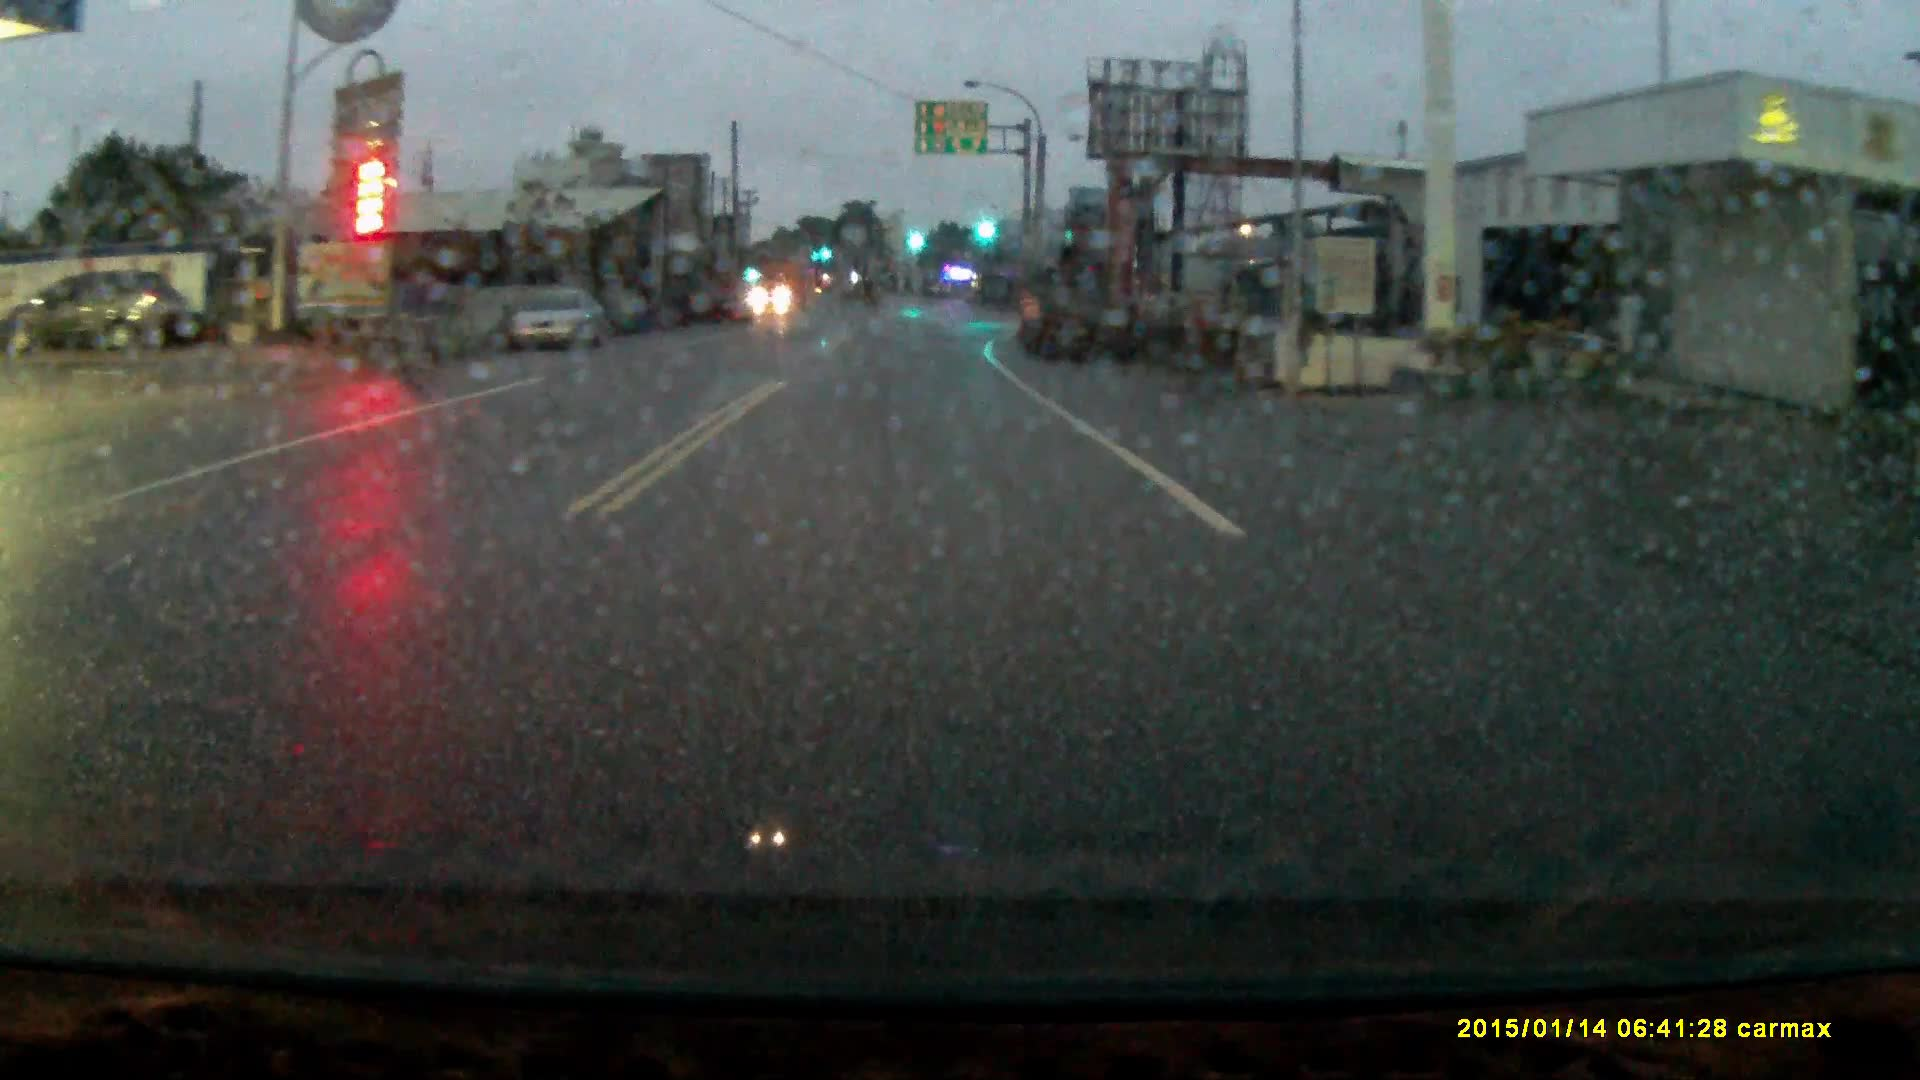rider: (355, 249, 461, 408)
vehicle: (1, 268, 197, 356), (1017, 266, 1107, 372), (506, 294, 622, 359)
